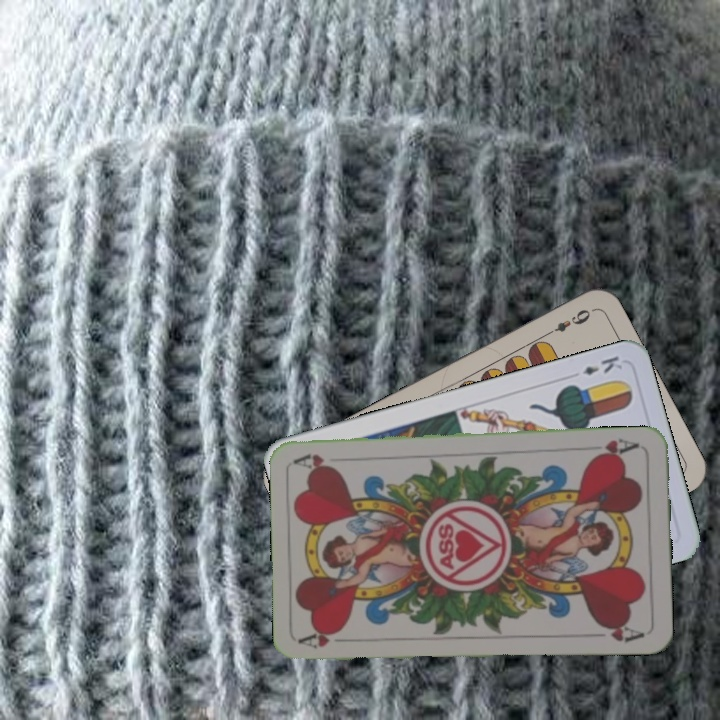E9: (541, 305, 594, 339)
EK: (578, 351, 625, 378)
HA: (298, 625, 357, 651), (587, 434, 642, 461)
